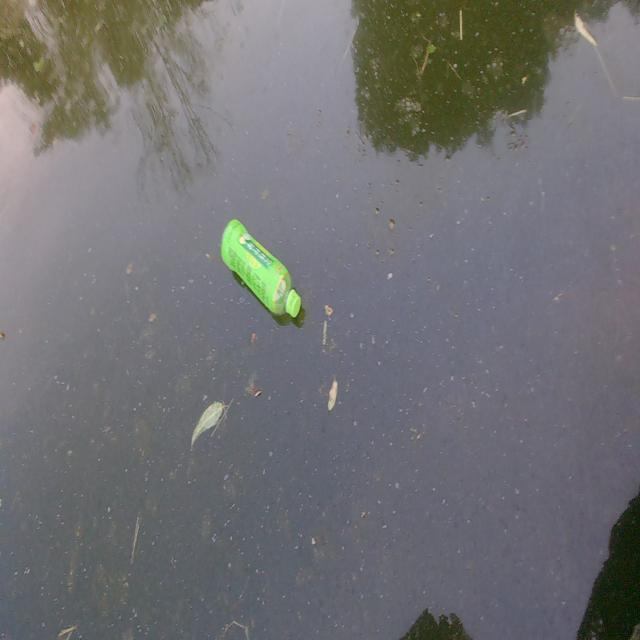Bottle: (217, 216, 304, 323)
